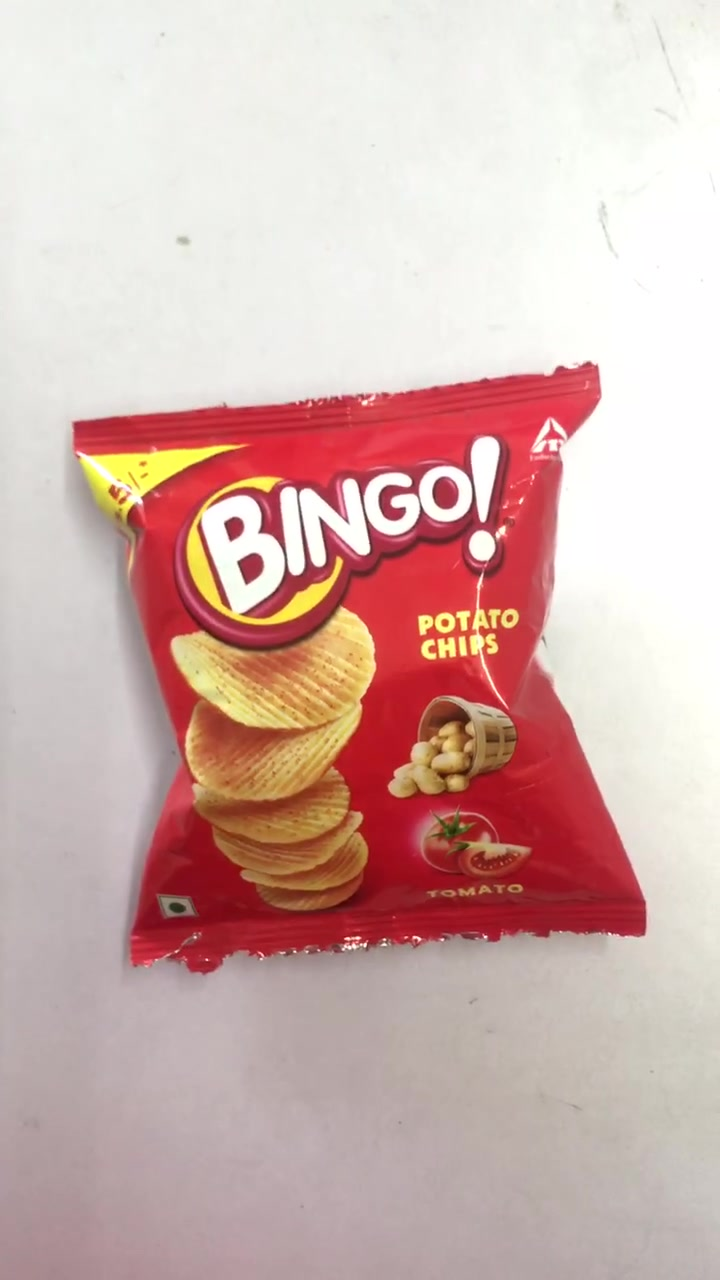Bingo: (67, 370, 646, 950)
